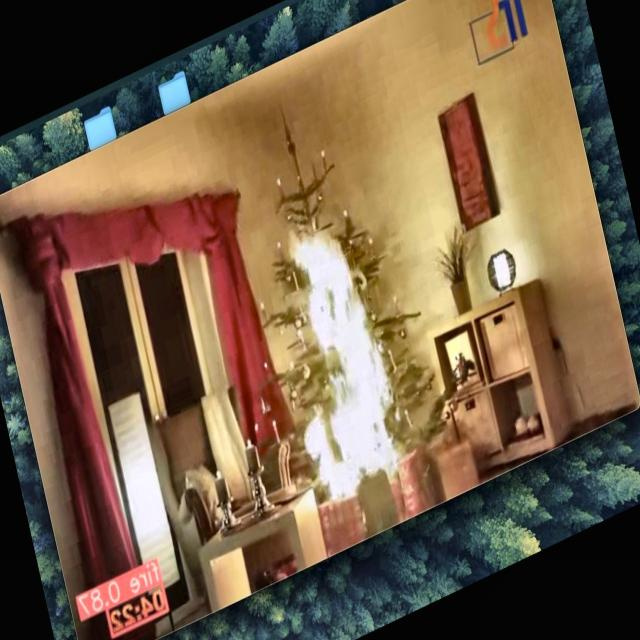fire: (229, 158, 426, 533)
